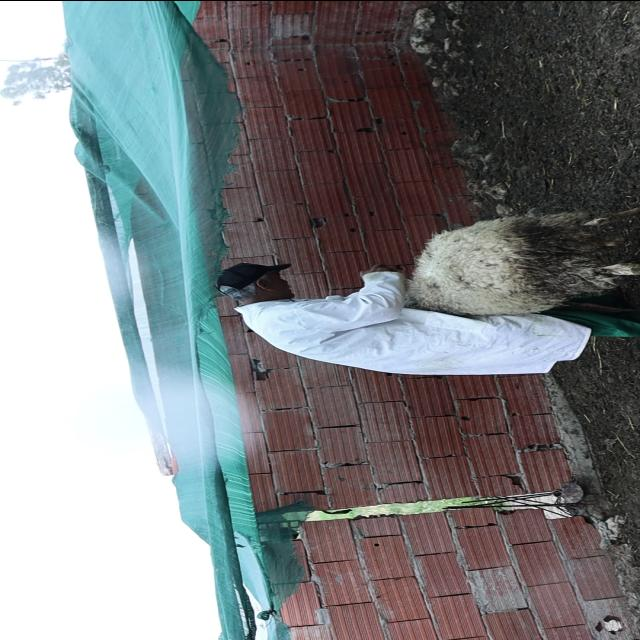Score_2: (407, 207, 639, 315)
